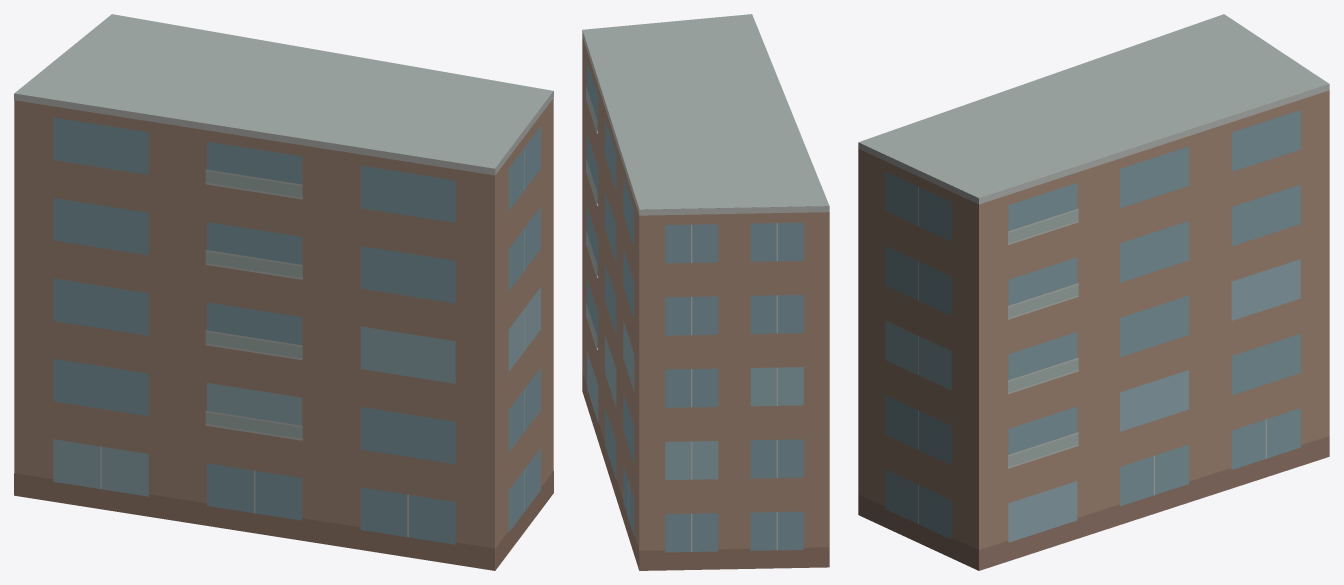
File: survey-upis-32937423.glb
3 views of the same model, side by side, from view 1: azimuth 30°, elevation 25°; view 2: azimuth 150°, elevation 25°; view 3: azimuth 270°, elevation 25° (orthographic). The views are drawn at different scales.
Parts seen in each view (by area): view 1: survey-upis-32937423.tmp; view 2: survey-upis-32937423.tmp; view 3: survey-upis-32937423.tmp.
Boxes of the visible parts, x1,y1,x2,y2 form: survey-upis-32937423.tmp: (14, 14, 553, 570); survey-upis-32937423.tmp: (582, 14, 829, 570); survey-upis-32937423.tmp: (858, 14, 1329, 570).
Bounding box in the file's own units: 15.38 × 14.5 × 16.63.
